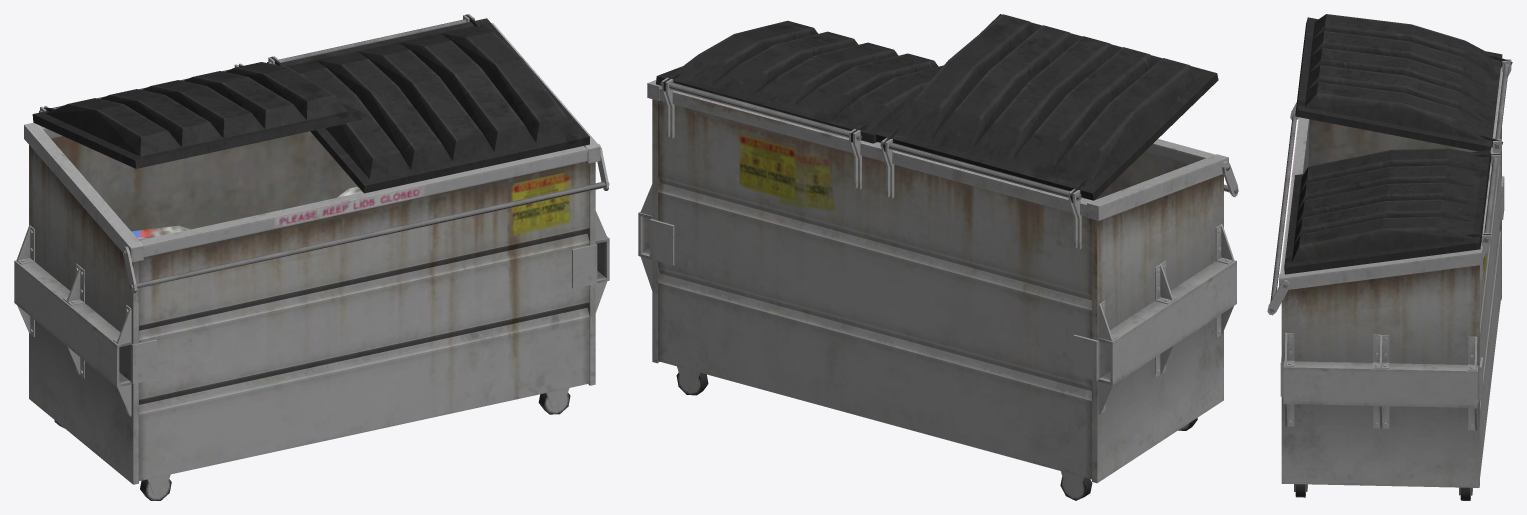
Rendered from ItemSpot.fbx.
The picture shows the model from 3 angles, left to right: view 1: azimuth 30°, elevation 25°; view 2: azimuth 150°, elevation 25°; view 3: azimuth 270°, elevation 25°; orthographic projection. The views are drawn at different scales.
Parts seen in each view (by area): view 1: ItemBox_Dumpster_01; view 2: ItemBox_Dumpster_01; view 3: ItemBox_Dumpster_01.
Part boxes in pixels (box(x1,y1,x2,y2)): ItemBox_Dumpster_01: box(14, 14, 609, 500); ItemBox_Dumpster_01: box(638, 14, 1238, 500); ItemBox_Dumpster_01: box(1267, 14, 1512, 500).
Bounding box in the file's own units: 2.46 × 1.74 × 1.23.
1 material, 1 textured.
